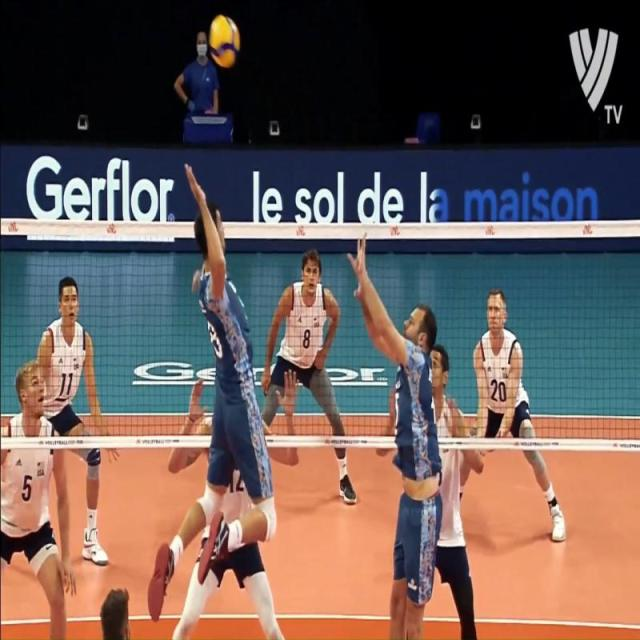volleyball: (209, 14, 241, 69)
